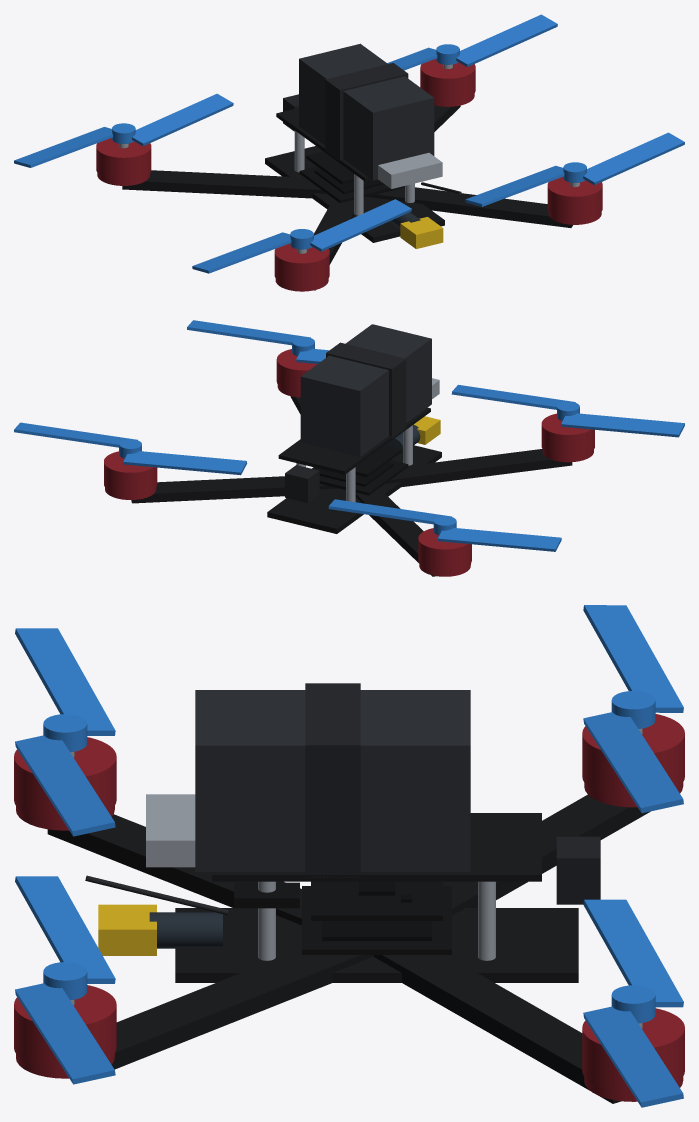
Rendered from drone.glb.
The picture shows the model from 3 angles, top to bottom: view 1: azimuth 30°, elevation 25°; view 2: azimuth 150°, elevation 25°; view 3: azimuth 270°, elevation 25°; orthographic projection. The views are drawn at different scales.
Visible parts, largest first — view 1: Battery, Arm_FL, Arm_RR, Battery_Strap, Plate_Bottom, Motor_RL_Bell, Motor_RR_Bell, Motor_FL_Bell, Motor_FR_Bell, Prop_FL_Blade_A, Prop_FR_Blade_A, Prop_RL_Blade_A (+16 smaller); view 2: Battery, Arm_RL, Plate_Bottom, Arm_FR, Battery_Strap, Plate_Top, Prop_FL_Blade_B, Prop_FR_Blade_B, Prop_RL_Blade_B, Motor_RL_Bell, Motor_FL_Bell, Motor_FR_Bell (+11 smaller); view 3: Battery, Plate_Bottom, Battery_Strap, Arm_RR, Arm_FR, Plate_Top, Prop_FR_Blade_A, Prop_RL_Blade_A, Prop_RR_Blade_A, Prop_FL_Blade_A, Arm_RL, FC_Board (+23 smaller).
Boxes of the visible parts, box(x1,y1,x2,y2) form: Battery: box(299, 43, 434, 180); Arm_FL: box(122, 170, 326, 198); Arm_RR: box(367, 187, 572, 227); Battery_Strap: box(325, 63, 408, 161); Plate_Bottom: box(265, 146, 444, 242); Motor_RL_Bell: box(274, 243, 329, 286); Motor_RR_Bell: box(547, 177, 602, 219); Motor_FL_Bell: box(96, 138, 151, 180); Motor_FR_Bell: box(420, 59, 475, 101); Prop_FL_Blade_A: box(132, 93, 233, 146); Prop_FR_Blade_A: box(456, 14, 557, 66); Prop_RL_Blade_A: box(310, 199, 411, 251); Battery: box(300, 324, 431, 456); Arm_RL: box(385, 449, 572, 487); Plate_Bottom: box(267, 444, 441, 533); Arm_FR: box(131, 476, 338, 503); Battery_Strap: box(326, 342, 406, 438); Plate_Top: box(278, 407, 430, 474); Prop_FL_Blade_B: box(437, 528, 561, 551); Prop_FR_Blade_B: box(123, 451, 247, 475); Prop_RL_Blade_B: box(561, 413, 684, 437); Motor_RL_Bell: box(541, 413, 594, 457); Motor_FL_Bell: box(418, 528, 471, 571); Motor_FR_Bell: box(104, 451, 157, 495); Battery: box(195, 690, 470, 871); Plate_Bottom: box(175, 908, 578, 982); Battery_Strap: box(305, 683, 360, 877); Arm_RR: box(112, 949, 373, 1069); Arm_FR: box(373, 955, 621, 1103); Plate_Top: box(212, 813, 541, 881); Prop_FR_Blade_A: box(583, 1006, 683, 1107); Prop_RL_Blade_A: box(15, 735, 115, 836); Prop_RR_Blade_A: box(15, 983, 115, 1084); Prop_FL_Blade_A: box(583, 712, 683, 813); Arm_RL: box(47, 814, 301, 925); FC_Board: box(311, 881, 442, 920).
Size of the model in its own units: 0.321 by 0.071 by 0.183.
